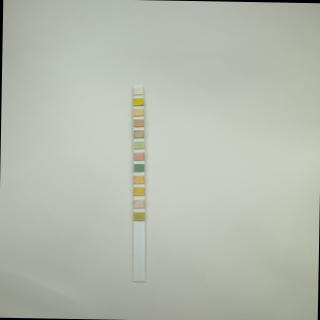mark: (133, 175, 144, 184), (133, 187, 144, 196), (133, 199, 144, 208), (133, 140, 144, 148), (134, 118, 144, 126), (134, 130, 144, 138), (134, 152, 144, 160), (134, 164, 144, 172), (134, 212, 144, 220), (134, 98, 143, 106), (134, 108, 142, 116), (132, 88, 142, 94)
